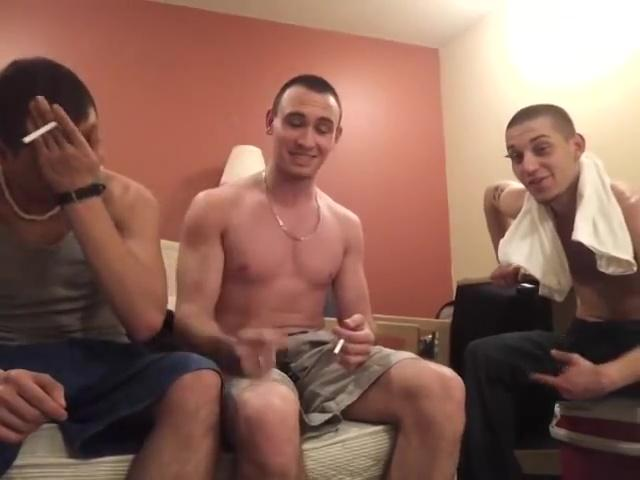cigarette: (21, 120, 57, 146), (335, 337, 349, 357)
